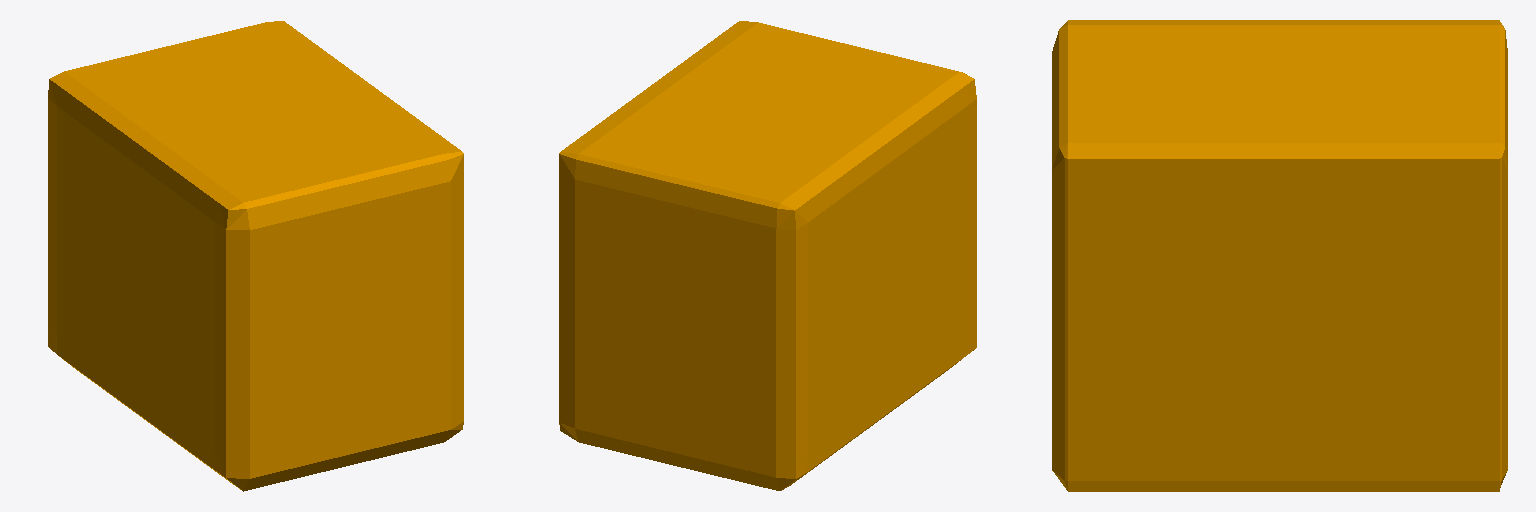
URDF robot description (cylinder_box_86):
<?xml version="1.0" encoding="utf-8"?>  <robot name="cylinder_box_86">   <link name="cylinder_box_86">     <visual>       <geometry>         <mesh filename="../meshes/box/box_86.stl" scale="1 1 1"/>       </geometry>     </visual>     <collision>       <geometry>         <mesh filename="../meshes/box/box_86.stl" scale="1 1 1"/>       </geometry>     </collision>     <inertial>        <origin         xyz="0 0 0"         rpy="0 0 0" />       <mass value="0.4366129092490863"/>       <origin rpy="0 0 0" xyz="0 0 0"/>       <inertia ixx="0.0004947328608314751" ixy="-5.988524462240314e-08" ixz="1.6900292527942896e-07" iyy="0.000357180074637826" iyz="-1.1631596336629792e-07" izz="0.0004409699915196717"/>     </inertial>   </link>  </robot>

--- Facts derived from the render (not from the file) ---
Views: 3 orthographic renders of the robot side by side, from view 1: azimuth 30°, elevation 25°; view 2: azimuth 150°, elevation 25°; view 3: azimuth 270°, elevation 25°.
Model cylinder_box_86 with 1 links and 0 joints (none), rooted at cylinder_box_86, posed every joint at zero.
Links seen in each view (by area): view 1: cylinder_box_86; view 2: cylinder_box_86; view 3: cylinder_box_86.
Boxes of the visible links, x1,y1,x2,y2 form: cylinder_box_86: (48, 21, 463, 491); cylinder_box_86: (559, 21, 976, 490); cylinder_box_86: (1052, 20, 1507, 491).
Bounding box of the posed robot: 0.0651 × 0.0897 × 0.0757 m (x, y, z).
1 mesh visuals loaded from 1 distinct referenced files (1 binary STL).